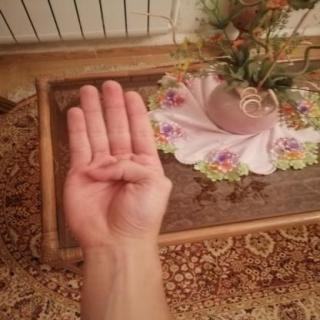KAAF: (42, 70, 182, 259)
